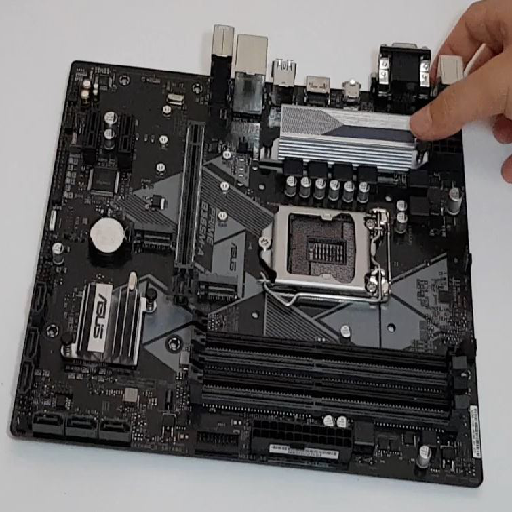CPU: (258, 204, 388, 300)
GPU: (171, 119, 208, 301)
MOTHERBOARD: (9, 60, 483, 487)
RAM: (188, 310, 470, 434)
SSD: (195, 272, 239, 304), (129, 221, 175, 251)
